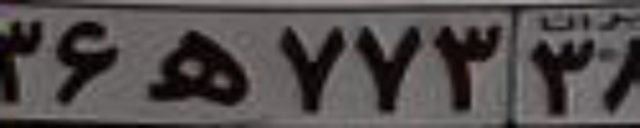3: (432, 23, 498, 112), (530, 36, 593, 115), (0, 17, 45, 104)
6: (52, 21, 117, 103)
7: (354, 23, 421, 114), (279, 24, 346, 113)
8: (602, 36, 639, 114)
he: (144, 26, 252, 106)
